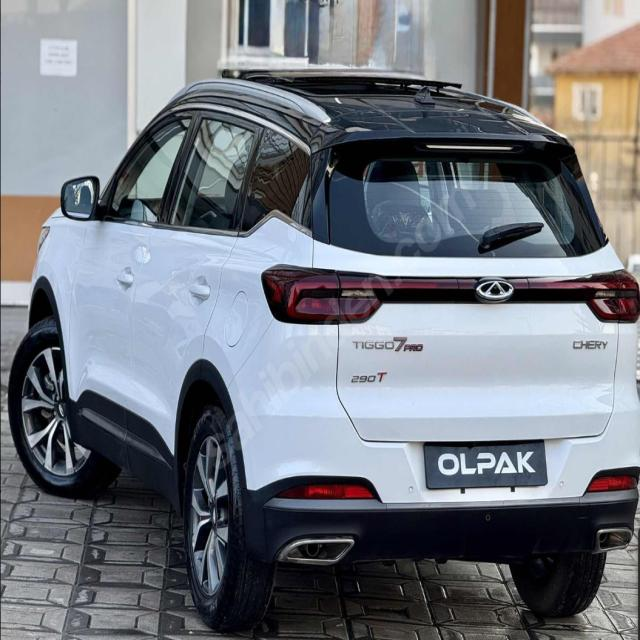cherry: (475, 274, 515, 306)
